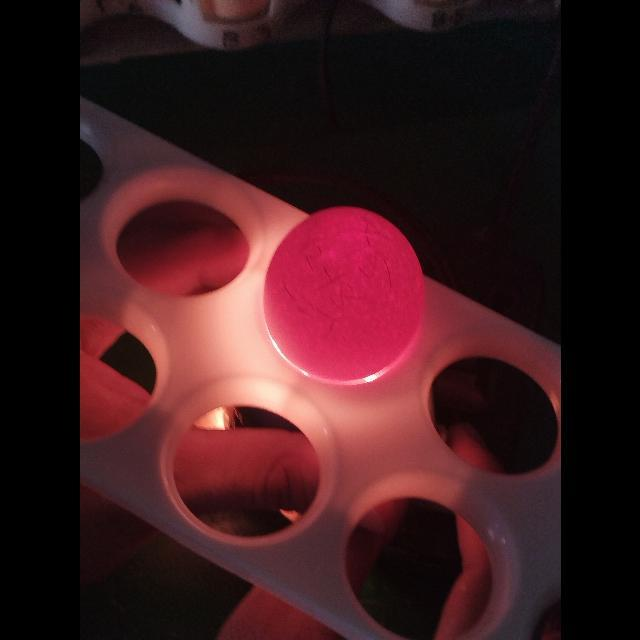Infertile: (259, 204, 429, 388)
